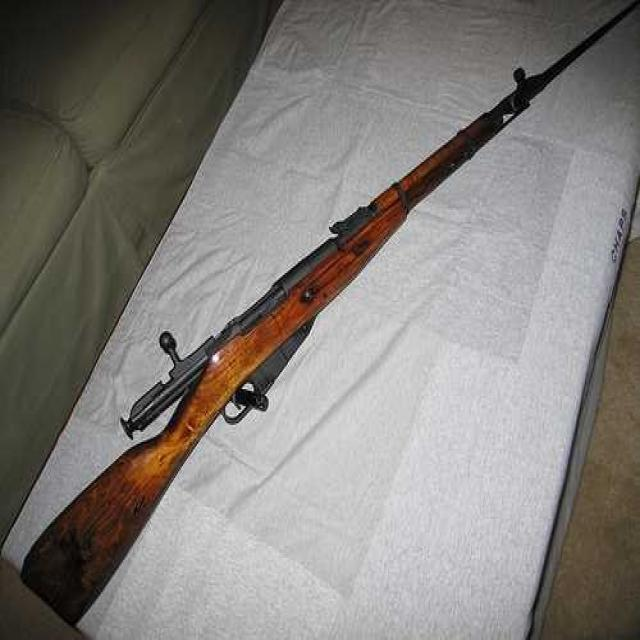heavyweapon: (1, 81, 540, 640)
